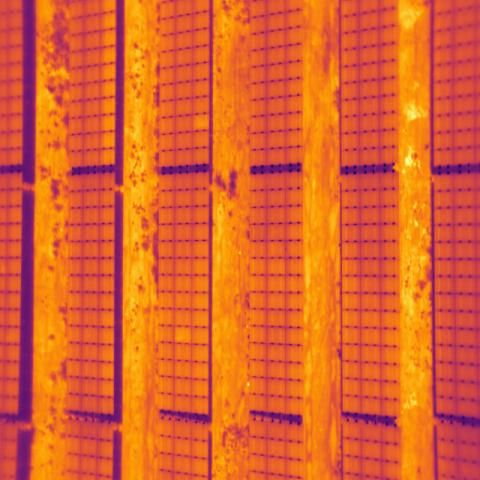fault: (100, 10, 116, 166), (175, 326, 192, 345), (193, 112, 209, 132)
